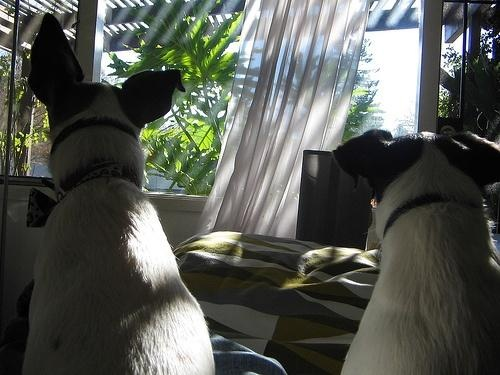dog: (23, 12, 217, 374), (332, 128, 500, 375)
